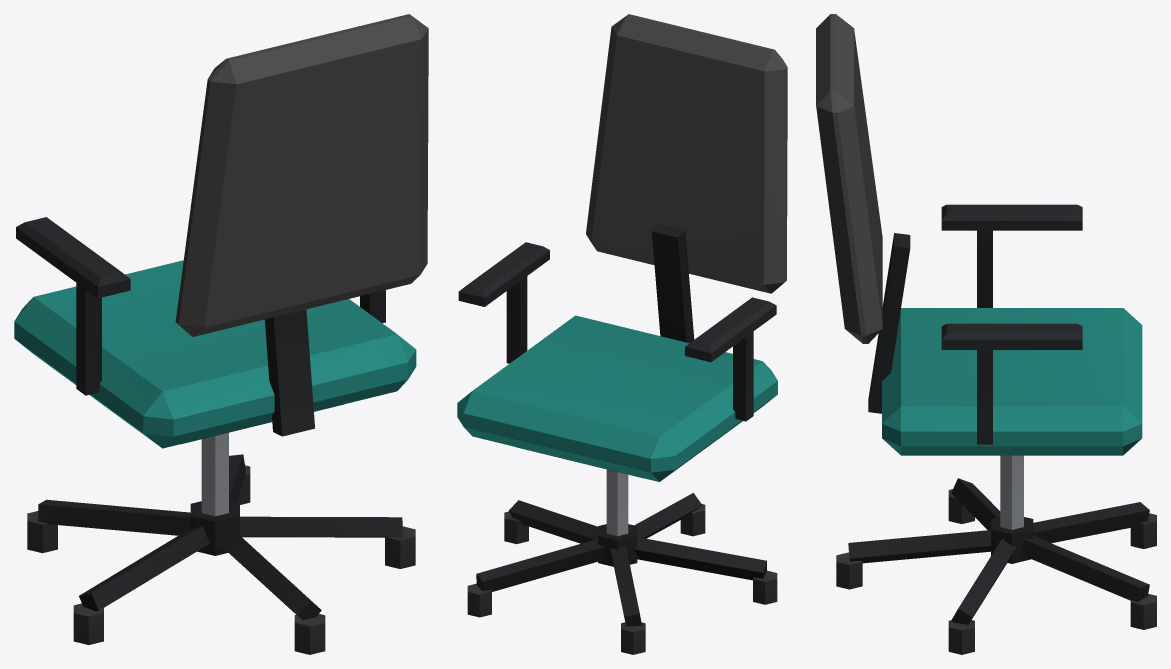
The model's file is chair_office_01.glb.
3 views of the same model, side by side, from view 1: azimuth 30°, elevation 25°; view 2: azimuth 150°, elevation 25°; view 3: azimuth 270°, elevation 25° (orthographic). The views are drawn at different scales.
Visible parts, largest first — view 1: chair_office_01_mesh; view 2: chair_office_01_mesh; view 3: chair_office_01_mesh.
Boxes of the visible parts, x1,y1,x2,y2 form: chair_office_01_mesh: [14, 14, 428, 654]; chair_office_01_mesh: [457, 14, 787, 654]; chair_office_01_mesh: [816, 14, 1156, 654].
Size of the model in its own units: 0.6266 by 1.08 by 0.6284.
1 material, 1 textured.
